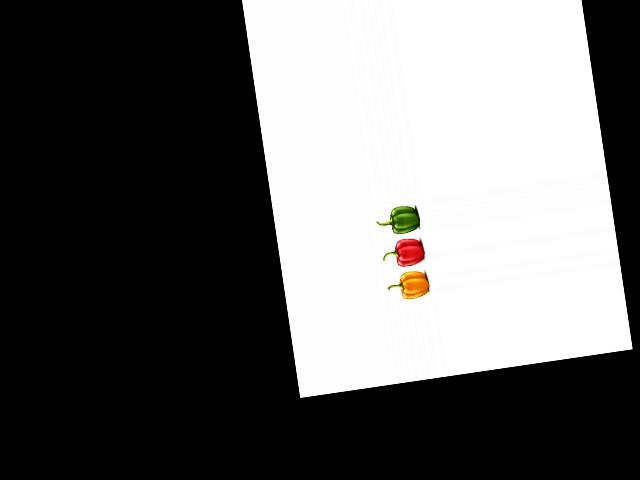bell_pepper: (374, 200, 423, 236)
